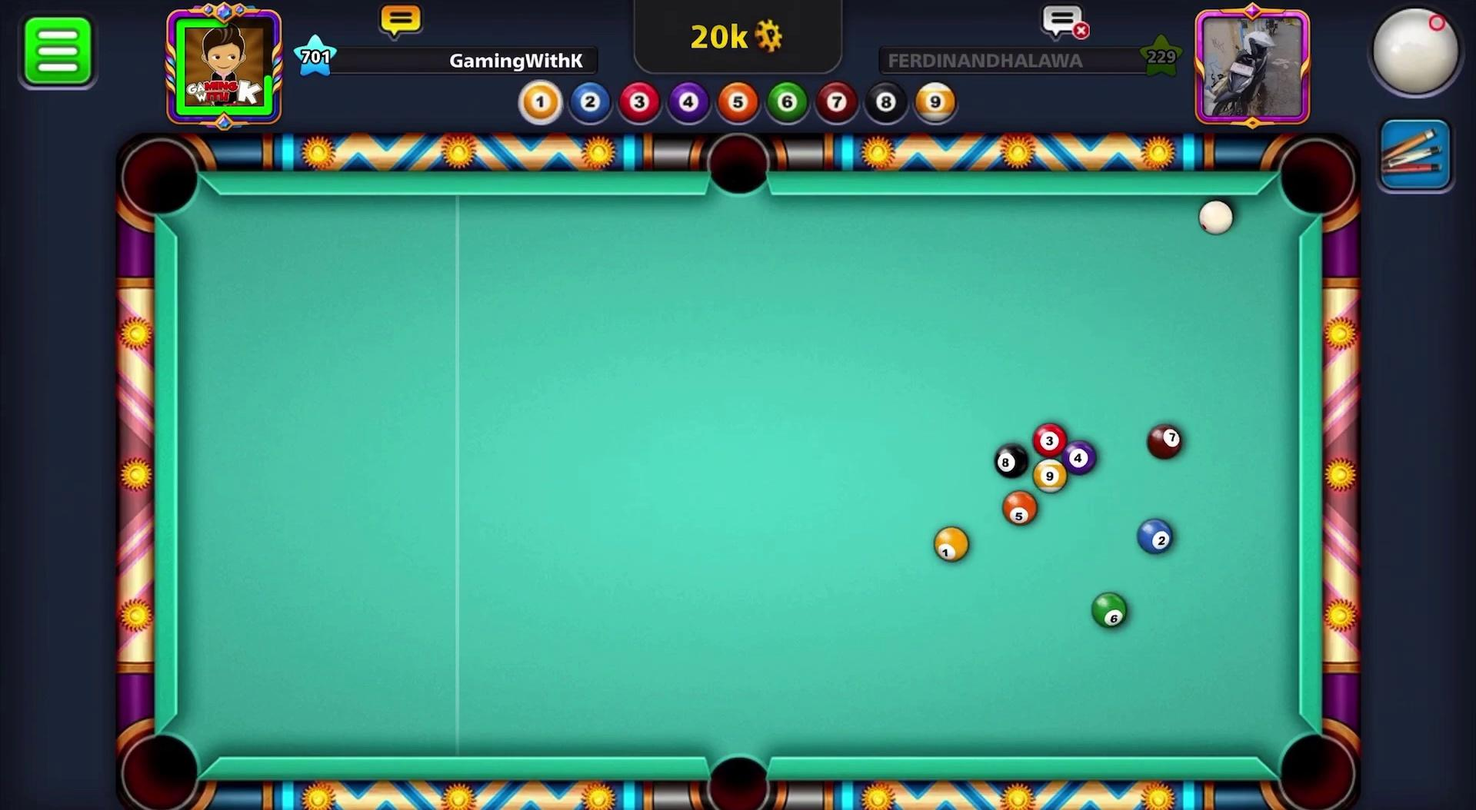Ball: (1090, 589, 1133, 633), (1056, 437, 1099, 478), (1145, 422, 1185, 463), (932, 526, 971, 566), (1002, 488, 1039, 528), (993, 442, 1031, 480), (1031, 421, 1068, 460), (1030, 458, 1069, 493), (1138, 518, 1174, 553)
Hole: (107, 129, 214, 231), (1267, 131, 1364, 233), (1266, 715, 1364, 809), (110, 719, 212, 809), (688, 736, 784, 809), (701, 124, 777, 204)
Play_Area: (175, 194, 1301, 759)
Spin: (1343, 0, 1474, 114)
White: (1193, 197, 1239, 239)
